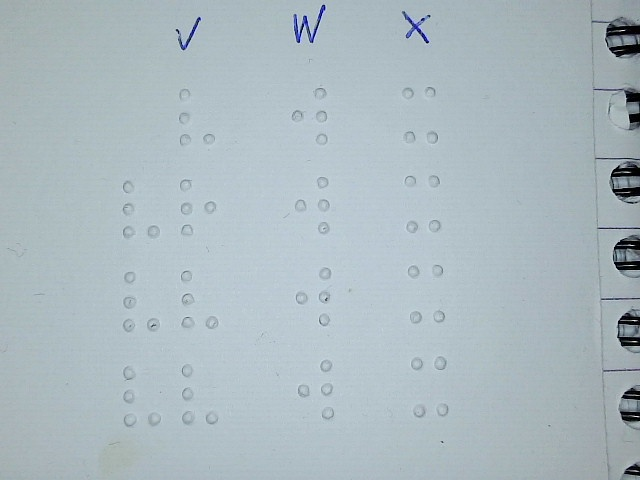V: (122, 364, 162, 427), (177, 86, 217, 148), (121, 177, 161, 239), (180, 363, 220, 425)
W: (290, 84, 330, 146), (292, 174, 332, 236), (293, 265, 333, 327), (296, 358, 336, 420)
X: (409, 354, 451, 420), (400, 83, 440, 145), (402, 171, 442, 233), (406, 262, 446, 324)
